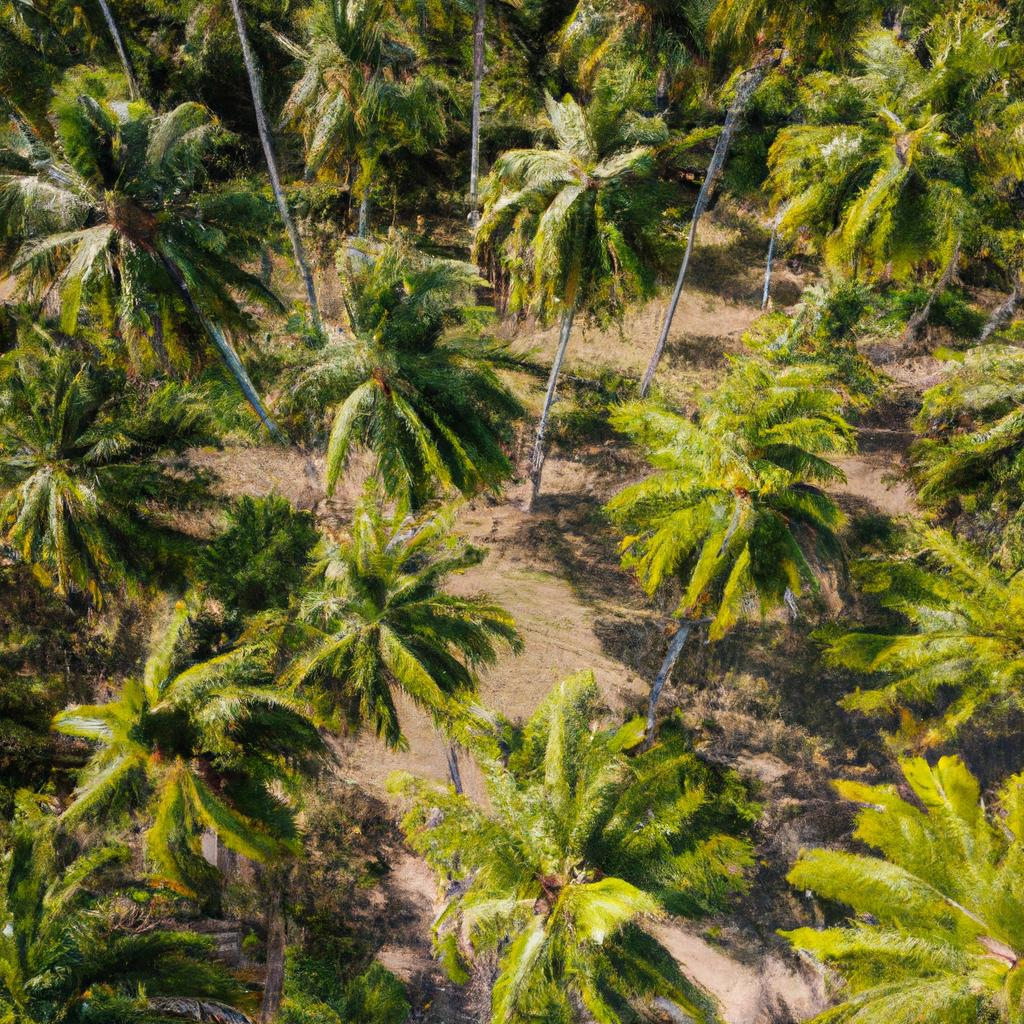coconut_tree: (374, 701, 773, 1020), (598, 339, 905, 651), (46, 596, 343, 905), (5, 69, 293, 340), (287, 223, 549, 505), (459, 64, 716, 335), (0, 316, 256, 586), (278, 512, 533, 737)
